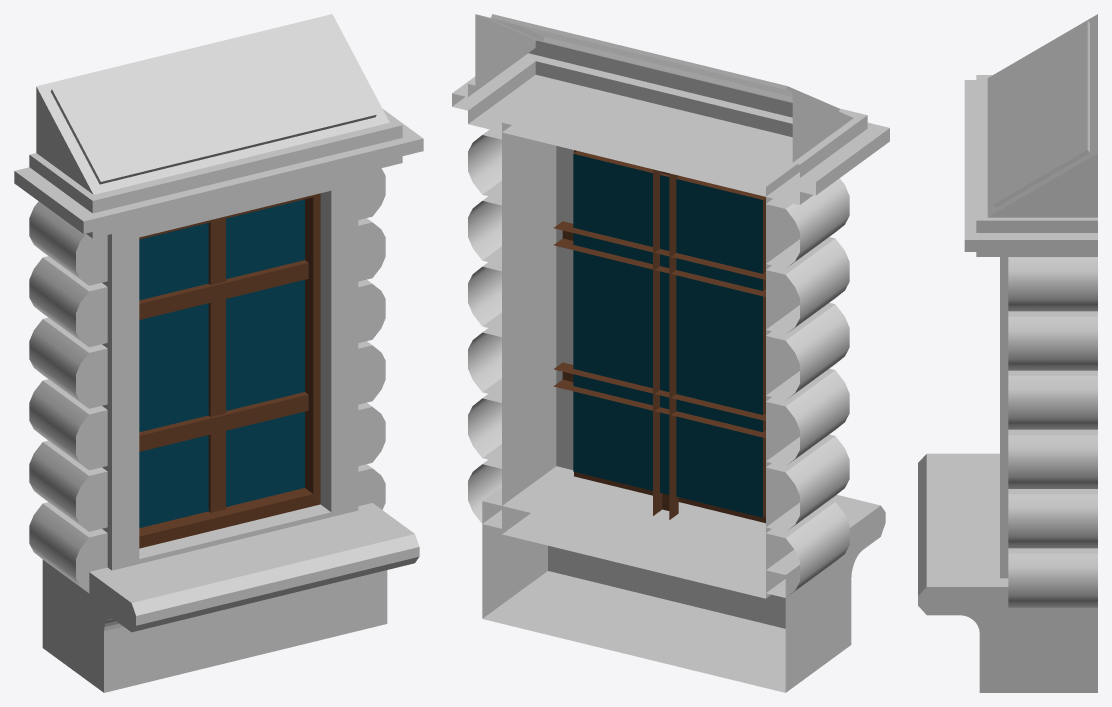
File: Window_02.fbx
The picture shows the model from 3 angles, left to right: view 1: azimuth 30°, elevation 25°; view 2: azimuth 150°, elevation 25°; view 3: azimuth 270°, elevation 25°; orthographic projection. The views are drawn at different scales.
Visible parts, largest first — view 1: Window_Decoration_TopBottom, Window_Main, Window_Decoration_Side; view 2: Window_Main, Window_Decoration_TopBottom, Window_Decoration_Side; view 3: Window_Decoration_TopBottom, Window_Decoration_Side, Window_Main.
Boxes of the visible parts, x1,y1,x2,y2 form: Window_Decoration_TopBottom: (14, 14, 423, 692); Window_Main: (102, 174, 358, 570); Window_Decoration_Side: (29, 168, 385, 592); Window_Main: (502, 83, 799, 598); Window_Decoration_TopBottom: (452, 14, 889, 692); Window_Decoration_Side: (468, 129, 849, 597); Window_Decoration_TopBottom: (918, 14, 1097, 692); Window_Decoration_Side: (1008, 257, 1097, 607); Window_Main: (1000, 257, 1008, 578).
Size of the model in its own units: 3.09 by 4.89 by 1.47.
